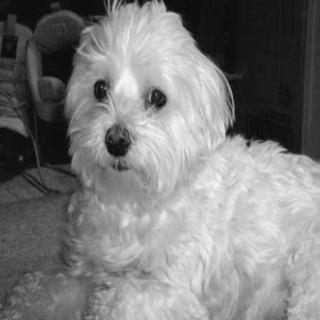dog: (60, 0, 235, 211)
nose: (99, 119, 138, 158)
